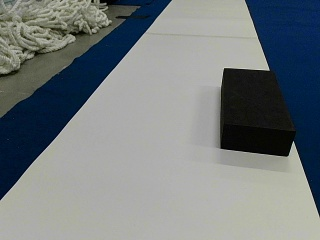block: (221, 68, 295, 157)
